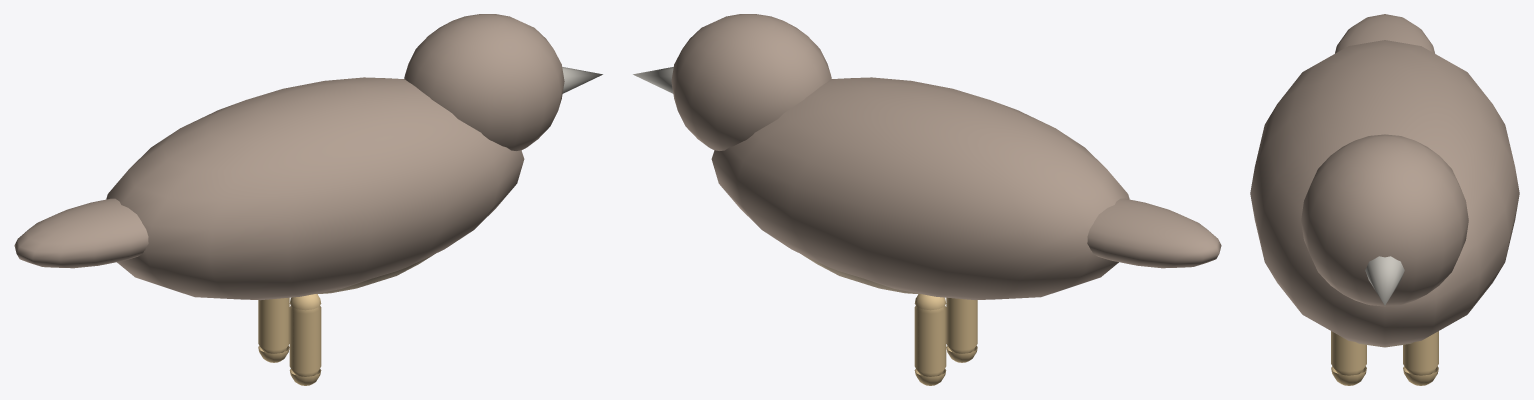
File: sparrow.glb
3 views of the same model, side by side, from view 1: azimuth 30°, elevation 25°; view 2: azimuth 150°, elevation 25°; view 3: azimuth 270°, elevation 25° (orthographic). The views are drawn at different scales.
Parts seen in each view (by area): view 1: body, head, tail, legL, legR, beak; view 2: body, head, tail, legR, legL, beak; view 3: body, head, tail, legL, legR, beak.
Part boxes in pixels (x1=…): body: x1=106, y1=77, x2=524, y2=300; head: x1=404, y1=14, x2=564, y2=150; tail: x1=14, y1=198, x2=148, y2=268; legL: x1=289, y1=294, x2=321, y2=385; legR: x1=258, y1=297, x2=289, y2=362; beak: x1=562, y1=67, x2=602, y2=93; body: x1=711, y1=77, x2=1129, y2=300; head: x1=671, y1=14, x2=831, y2=150; tail: x1=1087, y1=198, x2=1221, y2=268; legR: x1=914, y1=294, x2=946, y2=385; legL: x1=946, y1=297, x2=977, y2=362; beak: x1=633, y1=67, x2=673, y2=93; body: x1=1250, y1=40, x2=1519, y2=346; head: x1=1301, y1=134, x2=1468, y2=306; tail: x1=1335, y1=14, x2=1434, y2=53; legL: x1=1331, y1=331, x2=1366, y2=385; legR: x1=1403, y1=331, x2=1438, y2=385; beak: x1=1365, y1=256, x2=1404, y2=305.
Size of the model in its own units: 0.2579 by 0.1279 by 0.09.
